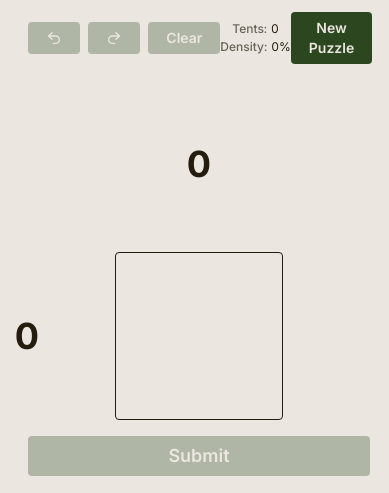
Test: BuildGrid › on a lone cell grid, placing a tree highlights the tree while awaiting a tent
Click the element named "row 1, column 1" at (199,336), box [115,252,283,420]
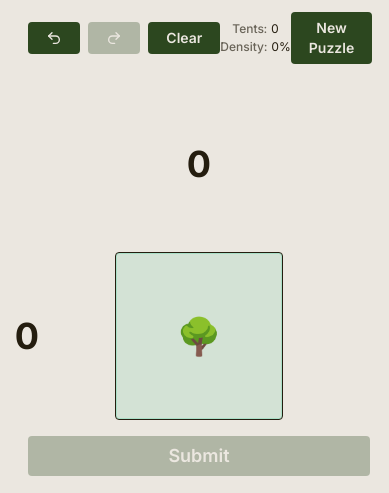
Expected: the text named "row 1, column 1" reads "🌳", [176,314,221,358]
